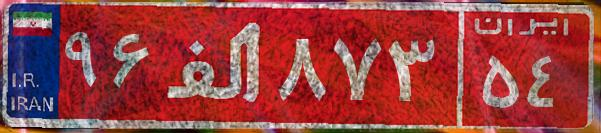3: (385, 28, 445, 110)
4: (525, 38, 570, 115)
5: (475, 38, 525, 113)
6: (110, 28, 158, 105)
7: (330, 28, 385, 110)
8: (273, 28, 330, 110)
9: (57, 26, 110, 107)
الف: (158, 15, 273, 115)
